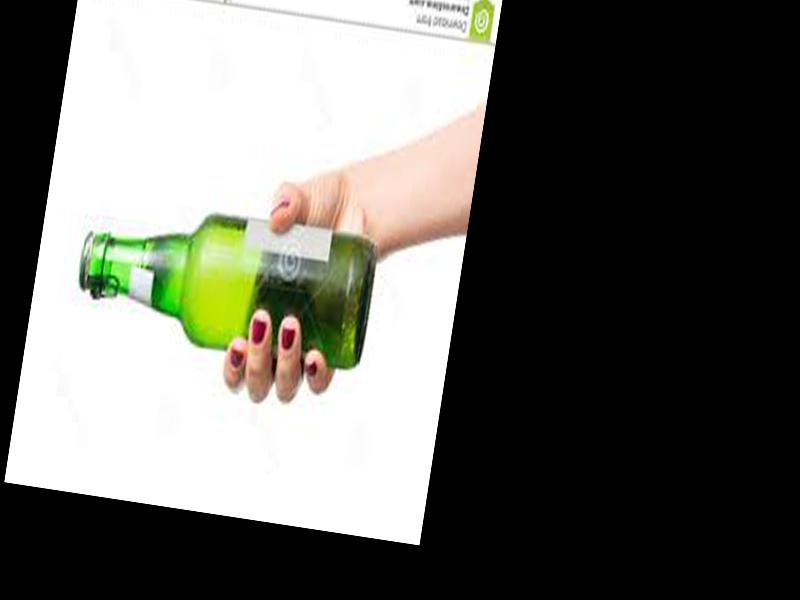Beer: (69, 189, 379, 380)
